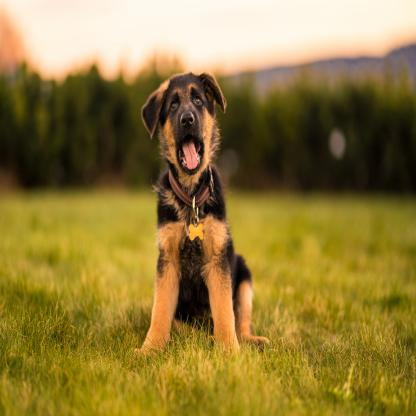german shepherd: (134, 67, 269, 366)
